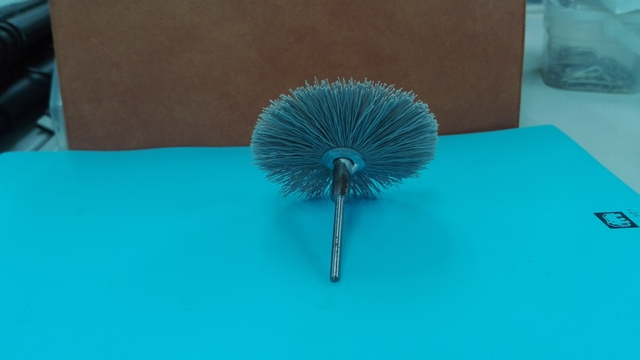TOOL: (233, 61, 479, 280), (216, 45, 451, 252)
